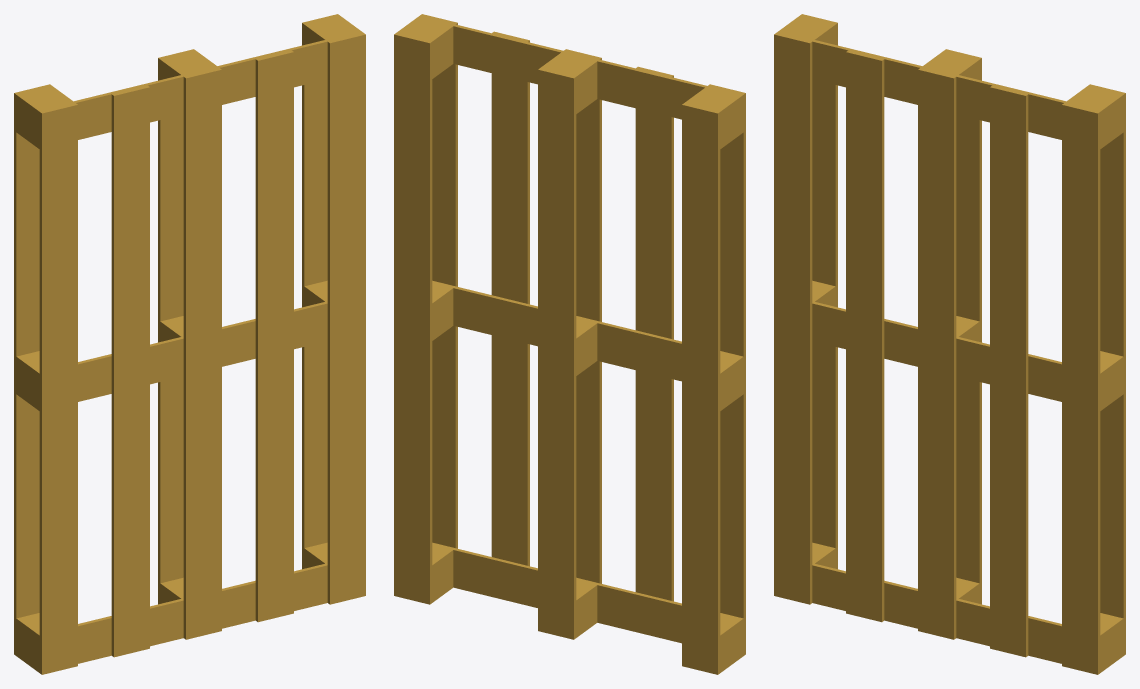
File: palette normale.glb
3 renders of one model, left to right at view 1: azimuth 30°, elevation 25°; view 2: azimuth 150°, elevation 25°; view 3: azimuth 330°, elevation 25°, orthographic.
Visible parts, largest first — view 1: Part 1; view 2: Part 1; view 3: Part 1.
Part boxes in pixels (x1,y1,x2,y2): Part 1: (14, 14, 365, 674); Part 1: (394, 14, 745, 674); Part 1: (774, 14, 1125, 674).
Bounding box in the file's own units: 0.8 × 1.33 × 0.12.
